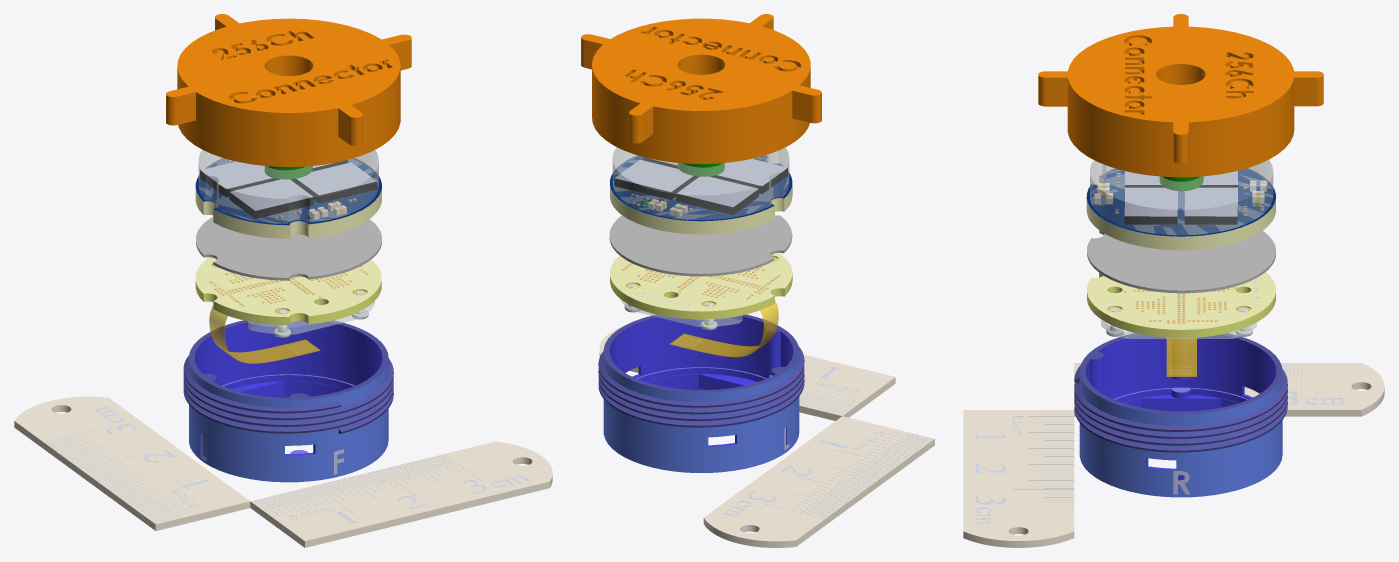
The model's file is Everything 2.4MB.glb.
3 views of the same model, side by side, from view 1: azimuth 30°, elevation 25°; view 2: azimuth 150°, elevation 25°; view 3: azimuth 270°, elevation 25° (orthographic). The views are drawn at different scales.
Visible parts, largest first — view 1: Part, Part 35, Part 29, Part 30, Part 7_clonedChild, Part 18, Part 32, Part 22, Part 37, RHD2164_bga new-1 - Part 4, Part 36, Part 4 (+10 smaller); view 2: Part, Part 35, Part 29, Part 30, Part 7_clonedChild, Part 18, Part 32, Part 22, RHD2164_bga new-1 - Part 4, Part 37, Part 4, Part 3 (+11 smaller); view 3: Part, Part 35, Part 29, Part 30, Part 7_clonedChild, Part 18, Part 32, Part 22, RHD2164_bga new-1 - Part 4, Part 4, Part 37, Part 3 (+12 smaller).
Boxes of the visible parts, x1,y1,x2,y2 form: Part: (166,14,411,166); Part 35: (14,396,552,540); Part 29: (189,359,388,482); Part 30: (195,321,382,475); Part 7_clonedChild: (199,150,378,223); Part 18: (196,217,381,280); Part 32: (183,320,393,431); Part 22: (195,257,381,317); Part 37: (44,406,529,524); RHD2164_bga new-1 - Part 4: (200,161,376,474); Part 36: (14,405,552,547); Part 4: (195,158,381,225); Part: (581,14,821,163); Part 35: (599,325,934,541); Part 29: (603,353,799,472); Part 30: (609,316,793,450); Part 7_clonedChild: (613,147,788,219); Part 18: (609,215,792,276); Part 32: (598,314,804,425); Part 22: (610,253,792,311); RHD2164_bga new-1 - Part 4: (615,159,789,450); Part 37: (722,367,932,518); Part 4: (610,155,792,221); Part 3: (610,157,792,234); Part: (1038,14,1323,177); Part 35: (963,363,1384,540); Part 29: (1079,372,1282,497); Part 30: (1079,334,1276,494); Part 7_clonedChild: (1090,160,1272,234); Part 18: (1087,230,1275,293); Part 32: (1074,333,1287,450); Part 22: (1087,272,1275,329); RHD2164_bga new-1 - Part 4: (1124,171,1237,494); Part 4: (1086,168,1275,236); Part 37: (975,363,1345,524); Part 3: (1086,177,1275,250).
Size of what is drawn, in the model's own units: 0.0556 by 0.0564 by 0.0556.
